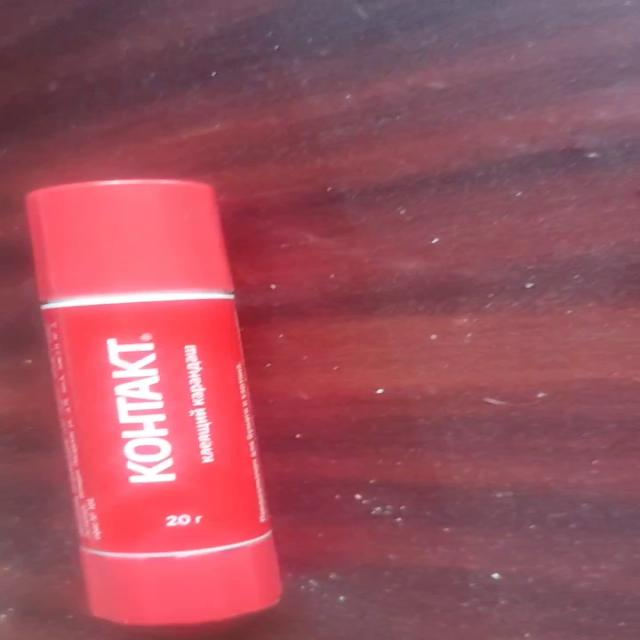glue: (23, 178, 284, 626)
